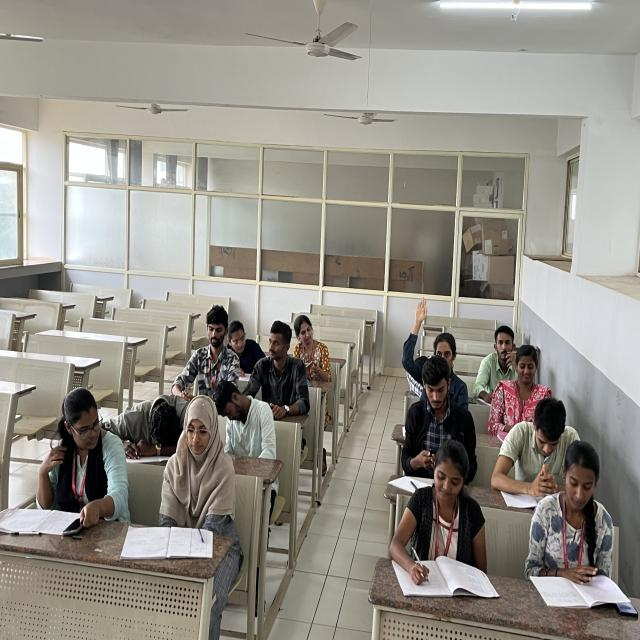Hand Rising: (397, 298, 473, 400)
Reading: (526, 446, 636, 615), (492, 398, 570, 507)
Sleeping: (108, 378, 193, 455)
Using Phone: (54, 389, 130, 545), (398, 361, 487, 477), (290, 314, 338, 380)
Writing: (391, 447, 499, 601), (476, 318, 520, 406)
